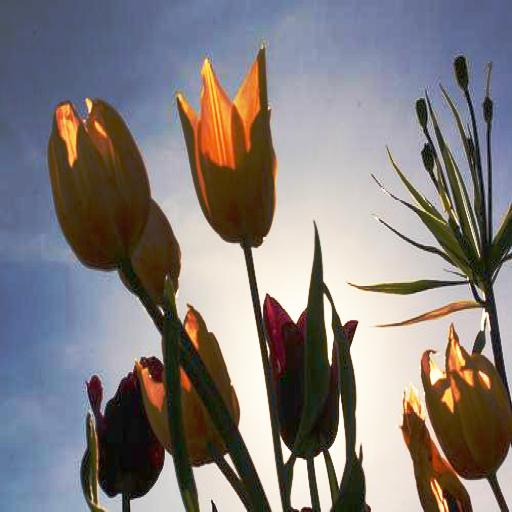tulip: (176, 45, 280, 249), (47, 96, 147, 264), (421, 323, 512, 481)
